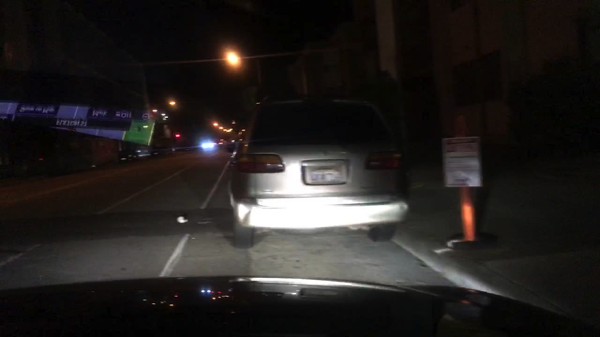car: (227, 94, 411, 248), (117, 147, 151, 163), (154, 147, 176, 155), (227, 137, 237, 154), (201, 143, 217, 149), (179, 145, 192, 151)
traffic light: (174, 132, 179, 138)
traffic sign: (440, 137, 479, 187), (156, 112, 169, 125)
